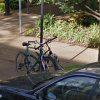Bicycle: (12, 34, 62, 78)
